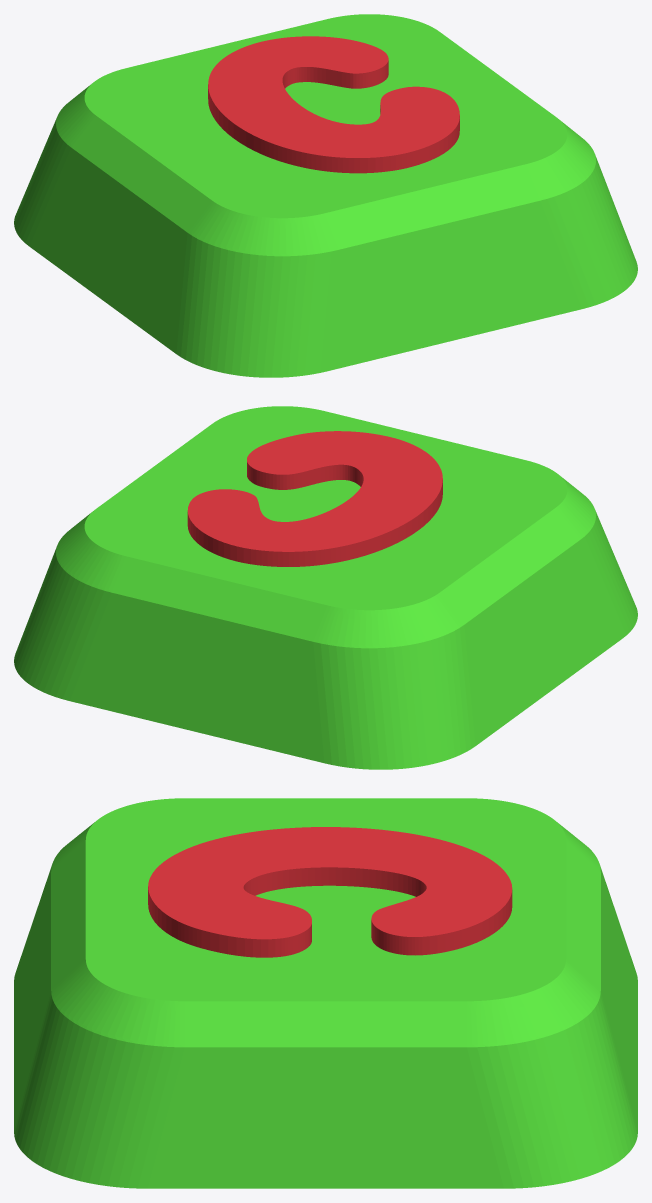
3 renders of one model, top to bottom at view 1: azimuth 30°, elevation 25°; view 2: azimuth 150°, elevation 25°; view 3: azimuth 270°, elevation 25°, orthographic. The views are drawn at different scales.
Visible parts, largest first — view 1: CAPS_C, FONT_C; view 2: CAPS_C, FONT_C; view 3: CAPS_C, FONT_C.
Boxes of the visible parts, x1,y1,x2,y2 form: CAPS_C: (14, 14, 637, 377); FONT_C: (208, 36, 459, 173); CAPS_C: (14, 406, 637, 769); FONT_C: (187, 431, 442, 566); CAPS_C: (14, 798, 637, 1188); FONT_C: (148, 827, 512, 957).
Size of the model in its own units: 18 by 5.59 by 18.
